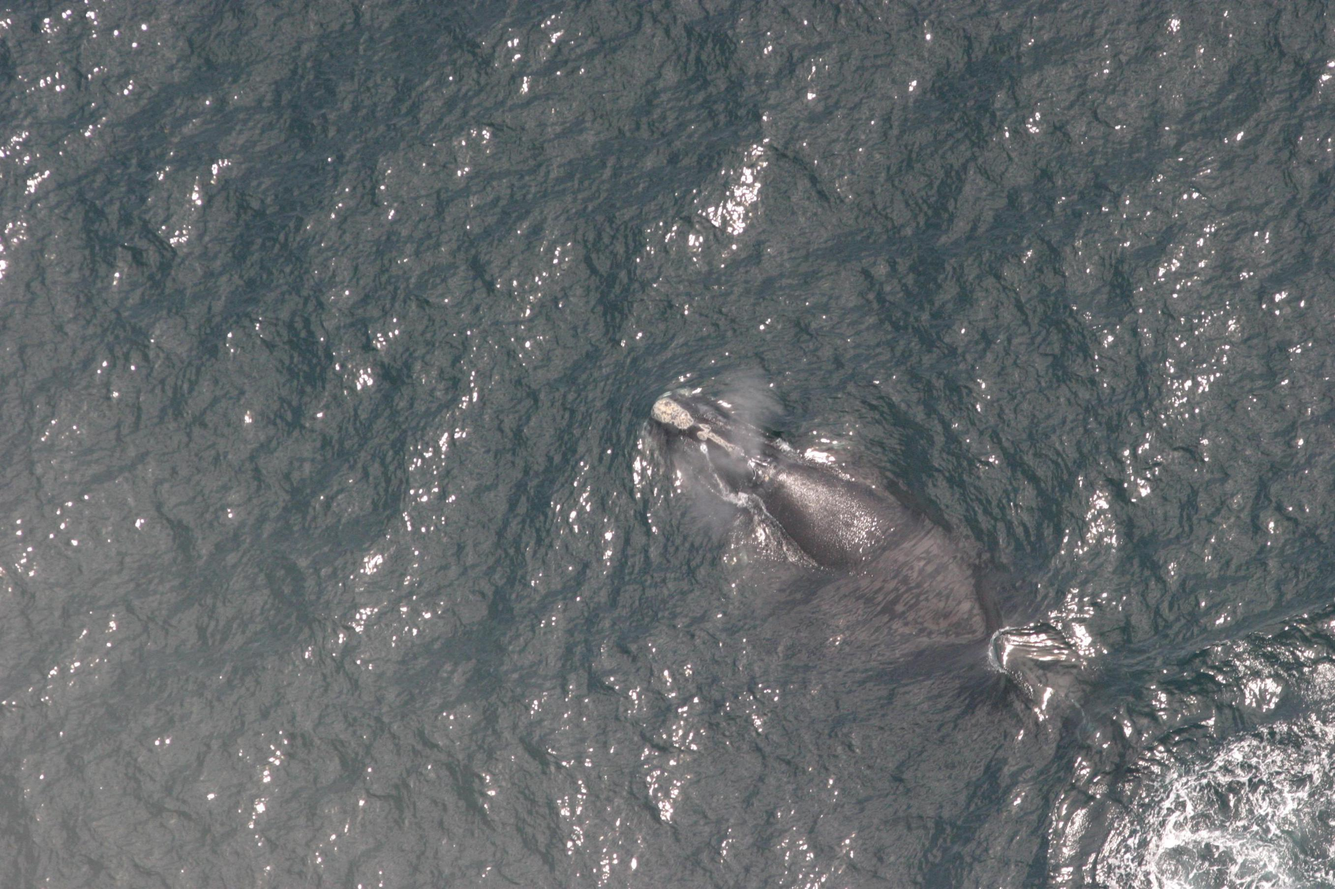whale: (644, 378, 1136, 735)
